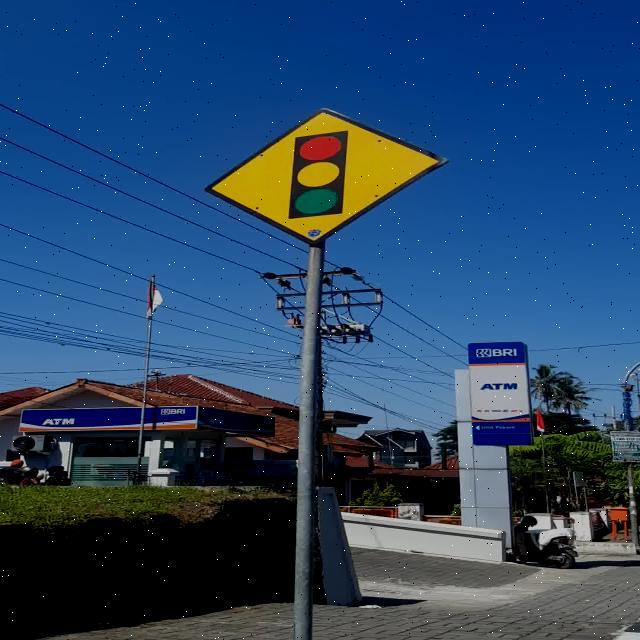Lampu Lalu Lintas: (205, 107, 450, 246)
